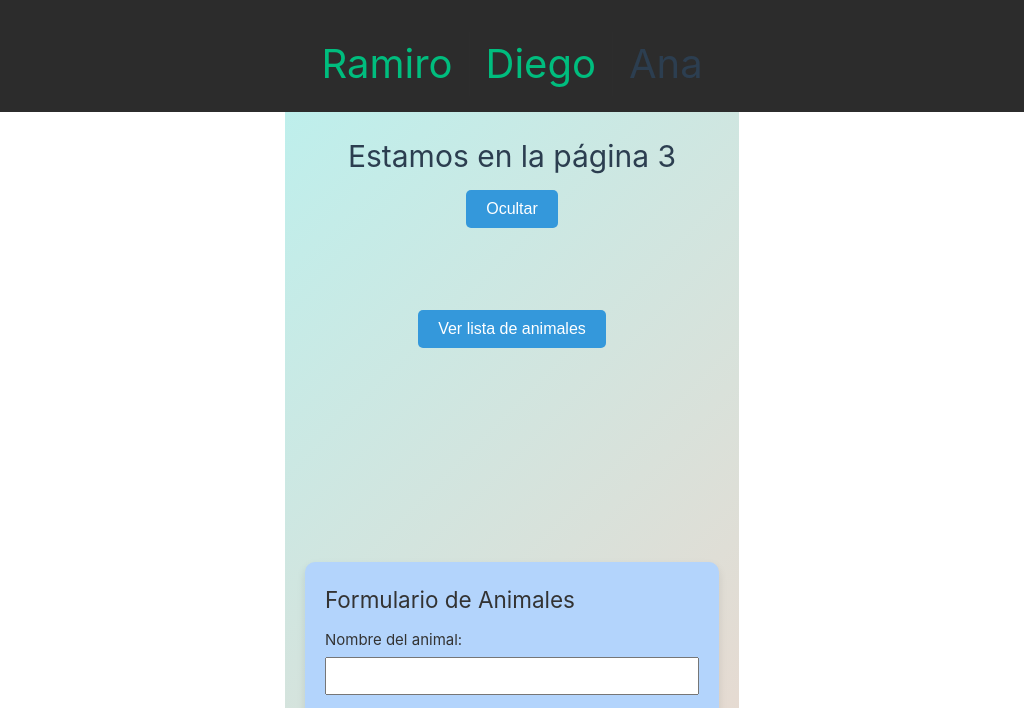
Test: Page3View Tests › Debe mostrar y ocultar la lista de animales correctamente
Note: Haz clic en el botón para mostrar la lista de animales
Click the button "Ver lista de animales" at (512, 329), box left=418, top=310, right=606, bottom=348
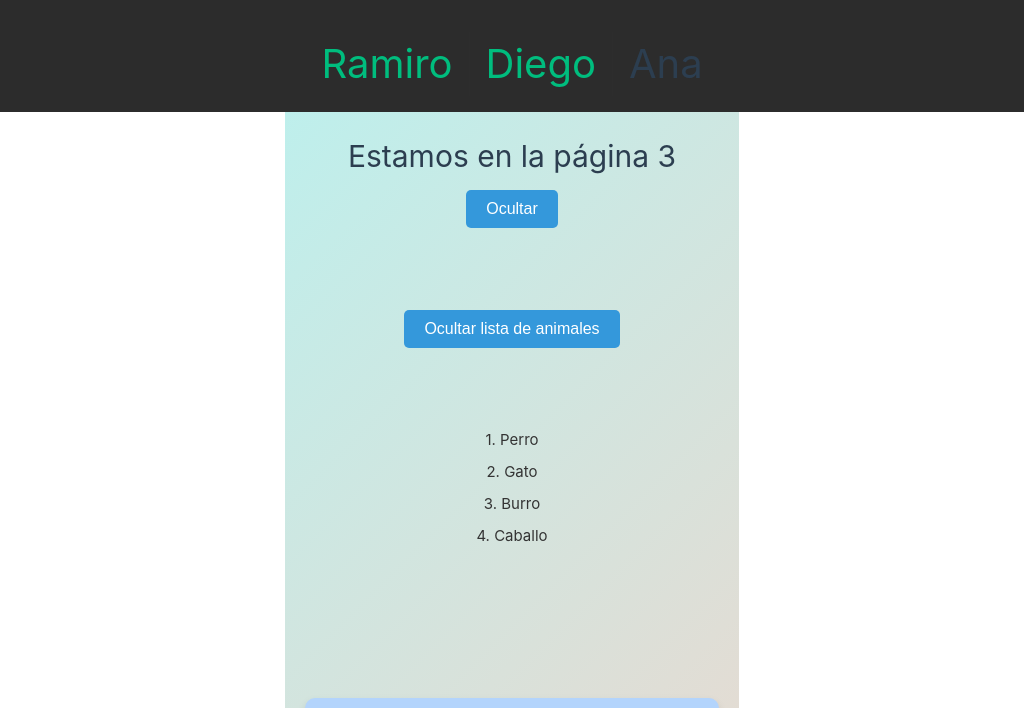
Result: the list is shown at left=476, top=420, right=547, bottom=556
Note: Haz clic en el botón para ocultar la lista de animales
Click the button "Ocultar lista de animales" at (512, 329), box left=404, top=310, right=619, bottom=348
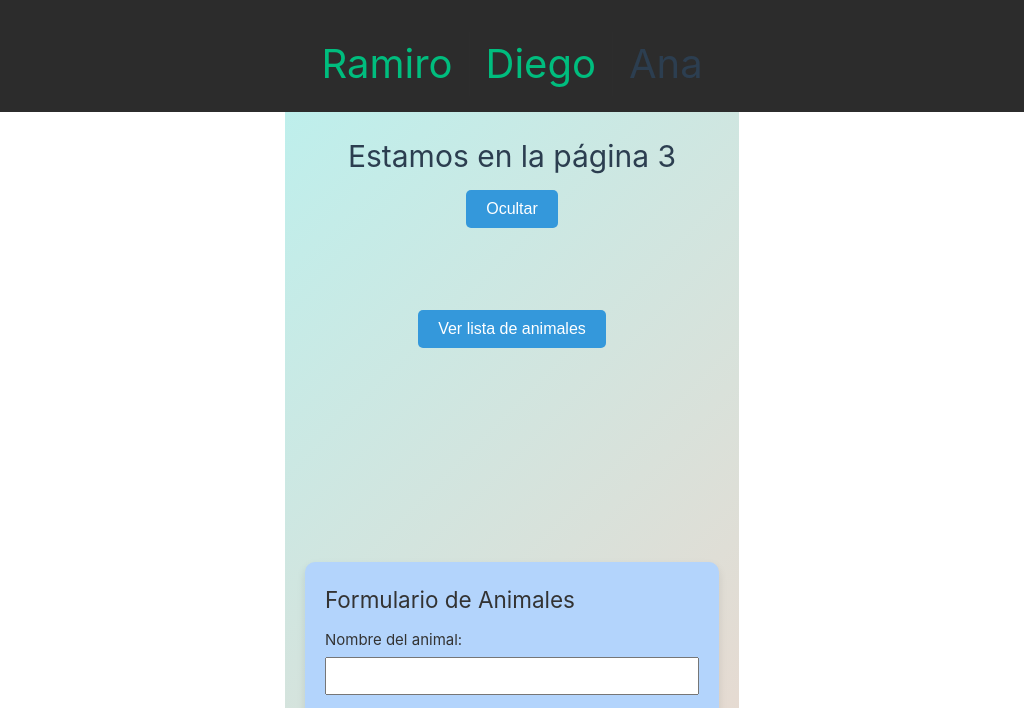
Result: the list is gone
